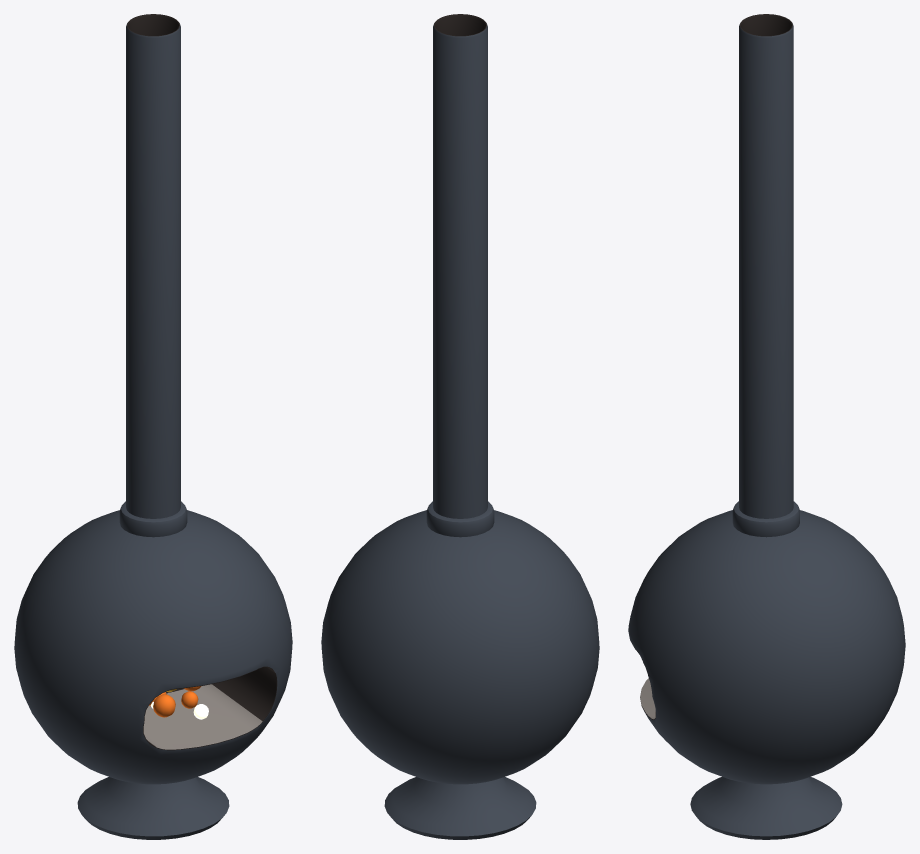
The model's file is lareira_fogareiro_bola.glb.
The picture shows the model from 3 angles, left to right: view 1: azimuth 30°, elevation 25°; view 2: azimuth 150°, elevation 25°; view 3: azimuth 270°, elevation 25°; orthographic projection.
Visible parts, largest first — view 1: lareira_fogareiro_bola; view 2: lareira_fogareiro_bola; view 3: lareira_fogareiro_bola.
Part boxes in pixels (x1,y1,x2,y2): lareira_fogareiro_bola: (14,14,292,839); lareira_fogareiro_bola: (321,14,599,839); lareira_fogareiro_bola: (628,14,905,839).
Size of the model in its own units: 0.66 by 2.05 by 0.6571.
Materials: 2 (1 with a texture image).
